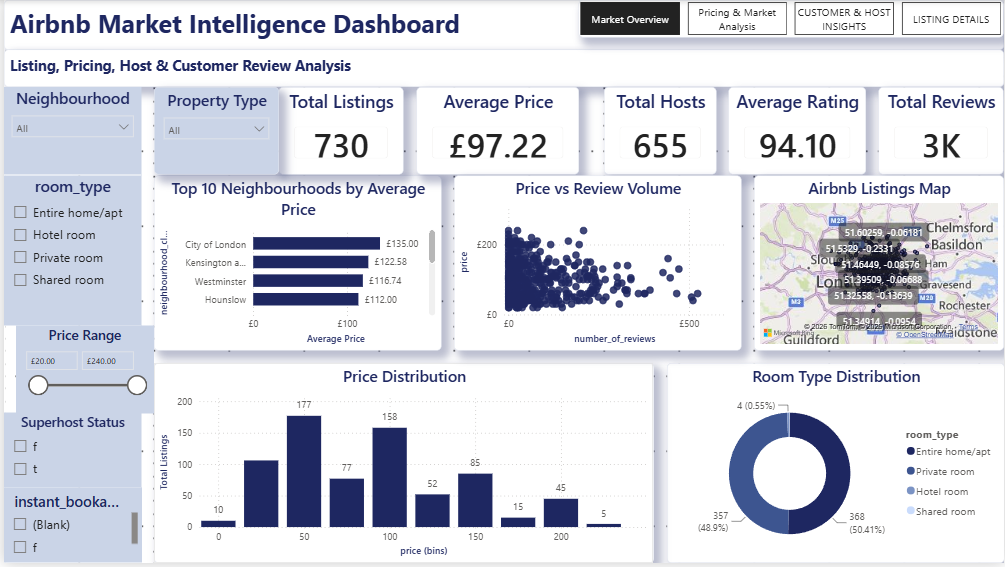

The dashboard page shown, as its layout file describes it:
{"tool":"powerbi","page":{"name":"Market Overview","canvas":[1280,720],"ordinal":0},"visuals":[{"type":"clusteredBarChart","title":"Top 10 Neighbourhoods by Average Price","fields":{"Category":["dim_neighbourhood.neighbourhood_cleansed"],"Y":["dim_date.Average Price"]},"box":[192,224,368,224],"z":0},{"type":"slicer","title":"room_type","fields":{"Values":["dim_room_type.room_type"]},"box":[0,224,176,192],"z":1000},{"type":"textbox","box":[0,0,1280,64],"z":2000},{"type":"textbox","box":[0,64,1280,48],"z":3000},{"type":"cardVisual","title":"Total Listings","fields":{"Data":["dim_date.Total Listings"]},"box":[352,112,160,112],"z":4000},{"type":"cardVisual","title":"Average Price","fields":{"Data":["dim_date.Average Price"]},"box":[528,112,208,112],"z":5000},{"type":"cardVisual","title":"Total Hosts","fields":{"Data":["dim_date.Total Hosts"]},"box":[768,112,144,112],"z":6000},{"type":"cardVisual","title":"Average Rating","fields":{"Data":["dim_date.Average Rating"]},"box":[928,112,176,112],"z":7000},{"type":"cardVisual","title":"Total Reviews","fields":{"Data":["dim_date.Total Reviews"]},"box":[1120,112,160,112],"z":8000},{"type":"donutChart","title":"Room Type Distribution","fields":{"Category":["dim_room_type.room_type"],"Y":["dim_date.Total Listings"]},"box":[848,464,432,256],"z":9000},{"type":"clusteredColumnChart","title":"Price Distribution","fields":{"Category":["fact_listings.price (bins)"],"Y":["dim_date.Total Listings"]},"box":[192,464,640,256],"z":10000},{"type":"scatterChart","title":"Price vs Review Volume","fields":{"X":["fact_listings.number_of_reviews"],"Y":["fact_listings.price"]},"box":[576,224,368,224],"z":11000},{"type":"map","title":"Airbnb Listings Map","fields":{"Y":["fact_listings.latitude"],"X":["fact_listings.longitude"]},"box":[960,224,320,224],"z":12000},{"type":"slicer","title":"Neighbourhood","fields":{"Values":["dim_neighbourhood.neighbourhood_cleansed"]},"box":[0,112,176,112],"z":13000},{"type":"slicer","title":"Property Type","fields":{"Values":["fact_listings.property_type"]},"box":[192,112,160,112],"z":14000},{"type":"slicer","title":"Superhost Status","fields":{"Values":["fact_listings.host_is_superhost"]},"box":[0,528,176,96],"z":15000},{"type":"slicer","title":"Price Range","fields":{"Values":["fact_listings.price"]},"box":[16,416,176,112],"z":16000},{"type":"slicer","fields":{"Values":["fact_listings.instant_bookable"]},"box":[0,624,176,96],"z":17000},{"type":"pageNavigator","box":[736,0,544,48],"z":18000}]}

Visuals, with their boxes in screenshot pixels (x1, y1, x2, y2), scaled from the page's 1280x720 canvas onto the 1005x567 screenshot:
"Top 10 Neighbourhoods by Average Price" clusteredBarChart: {"x1": 151, "y1": 176, "x2": 440, "y2": 353}
"room_type" slicer: {"x1": 0, "y1": 176, "x2": 138, "y2": 328}
textbox: {"x1": 0, "y1": 0, "x2": 1004, "y2": 50}
textbox: {"x1": 0, "y1": 50, "x2": 1004, "y2": 88}
"Total Listings" cardVisual: {"x1": 276, "y1": 88, "x2": 402, "y2": 176}
"Average Price" cardVisual: {"x1": 415, "y1": 88, "x2": 578, "y2": 176}
"Total Hosts" cardVisual: {"x1": 603, "y1": 88, "x2": 716, "y2": 176}
"Average Rating" cardVisual: {"x1": 729, "y1": 88, "x2": 867, "y2": 176}
"Total Reviews" cardVisual: {"x1": 879, "y1": 88, "x2": 1004, "y2": 176}
"Room Type Distribution" donutChart: {"x1": 666, "y1": 365, "x2": 1004, "y2": 566}
"Price Distribution" clusteredColumnChart: {"x1": 151, "y1": 365, "x2": 653, "y2": 566}
"Price vs Review Volume" scatterChart: {"x1": 452, "y1": 176, "x2": 741, "y2": 353}
"Airbnb Listings Map" map: {"x1": 754, "y1": 176, "x2": 1004, "y2": 353}
"Neighbourhood" slicer: {"x1": 0, "y1": 88, "x2": 138, "y2": 176}
"Property Type" slicer: {"x1": 151, "y1": 88, "x2": 276, "y2": 176}
"Superhost Status" slicer: {"x1": 0, "y1": 416, "x2": 138, "y2": 491}
"Price Range" slicer: {"x1": 13, "y1": 328, "x2": 151, "y2": 416}
slicer - fact_listings.instant_bookable: {"x1": 0, "y1": 491, "x2": 138, "y2": 566}
pageNavigator: {"x1": 578, "y1": 0, "x2": 1004, "y2": 38}
